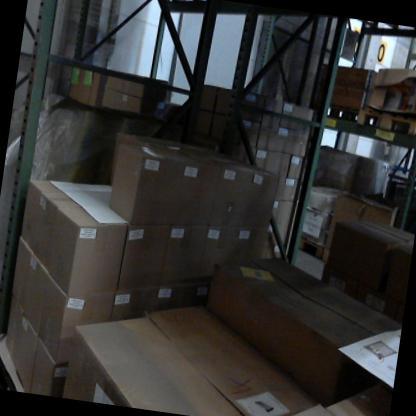pallet: (312, 267, 406, 320), (137, 0, 239, 26), (352, 105, 416, 144), (310, 97, 368, 134), (294, 225, 328, 263), (345, 19, 416, 37), (0, 341, 22, 388)
stillage: (371, 156, 416, 230)
